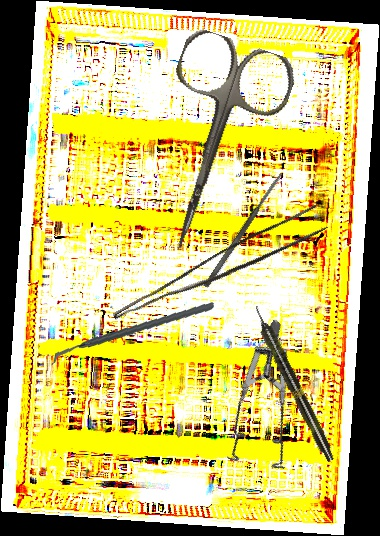Chopper: (49, 285, 215, 382)
Handpiece: (249, 303, 338, 464)
Iris Scissors: (120, 25, 302, 267)
Spatula Surgical: (202, 170, 286, 289)
Speculum: (185, 318, 355, 491)
Tissue Forceps: (112, 198, 329, 343)
